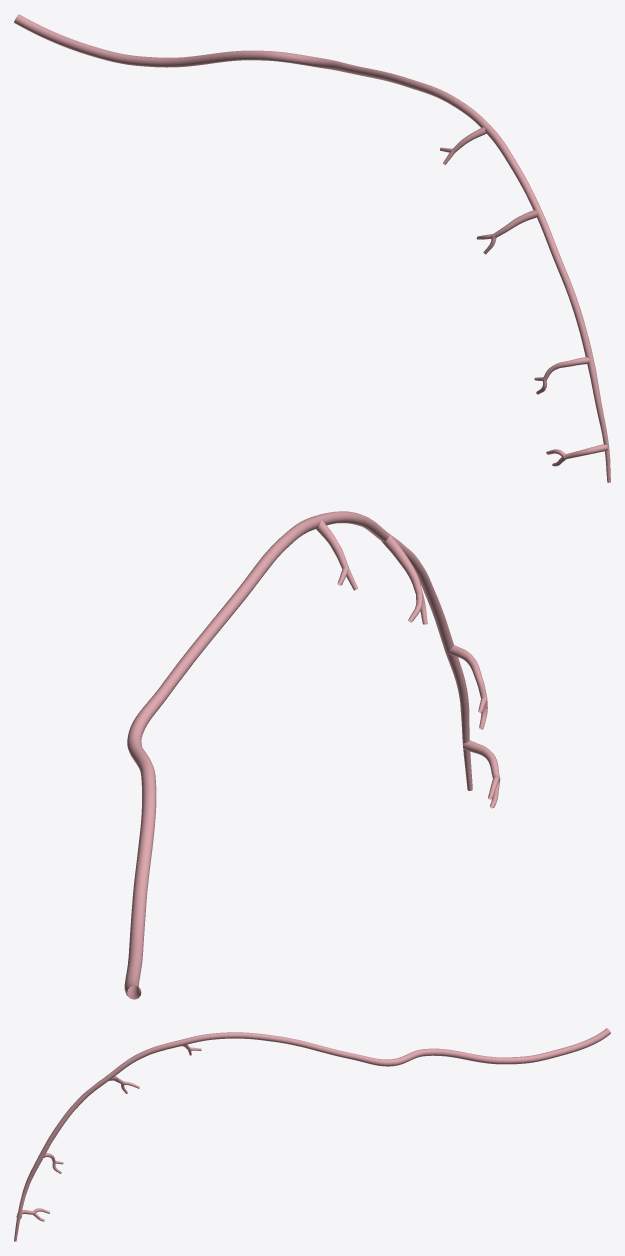
File: circulatorio-dorsal-artery-of-penis-r.glb
The picture shows the model from 3 angles, top to bottom: view 1: azimuth 30°, elevation 25°; view 2: azimuth 150°, elevation 25°; view 3: azimuth 270°, elevation 25°; orthographic projection. The views are drawn at different scales.
Parts seen in each view (by area): view 1: Dorsal artery of penis.r; view 2: Dorsal artery of penis.r; view 3: Dorsal artery of penis.r.
Part boxes in pixels (x1,y1,x2,y2): Dorsal artery of penis.r: [14, 14, 610, 482]; Dorsal artery of penis.r: [124, 511, 500, 999]; Dorsal artery of penis.r: [14, 1028, 610, 1241].
Bounding box in the file's own units: 0.0343 × 0.0502 × 0.1335.
